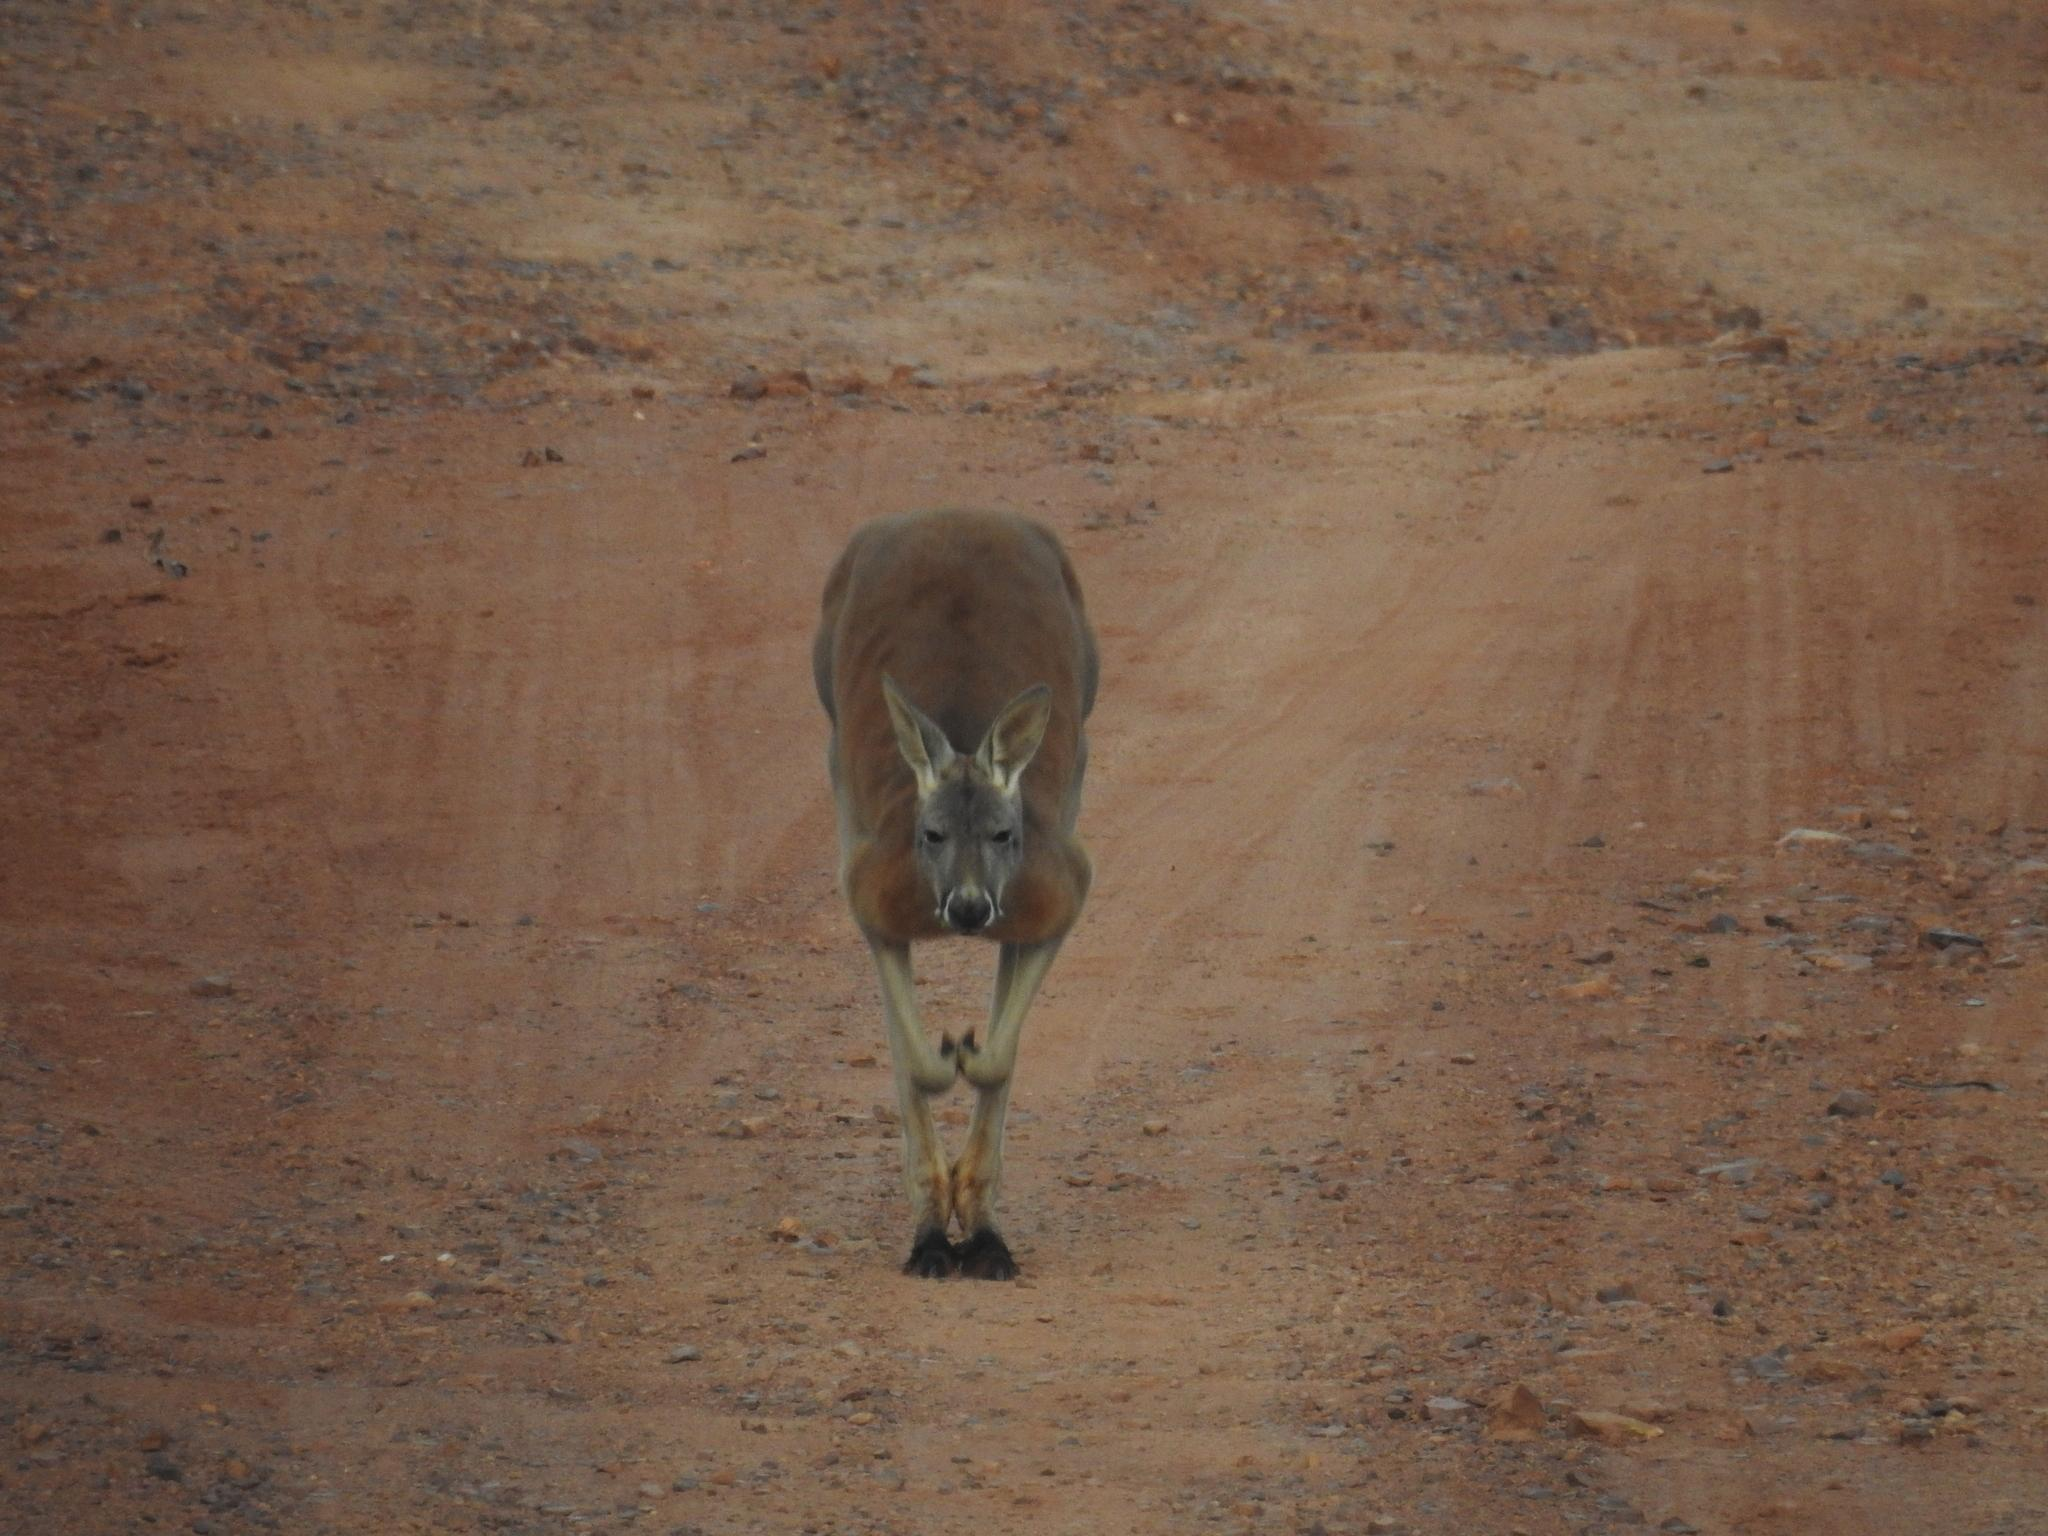Red kangaroo: (808, 499, 1114, 1286)
